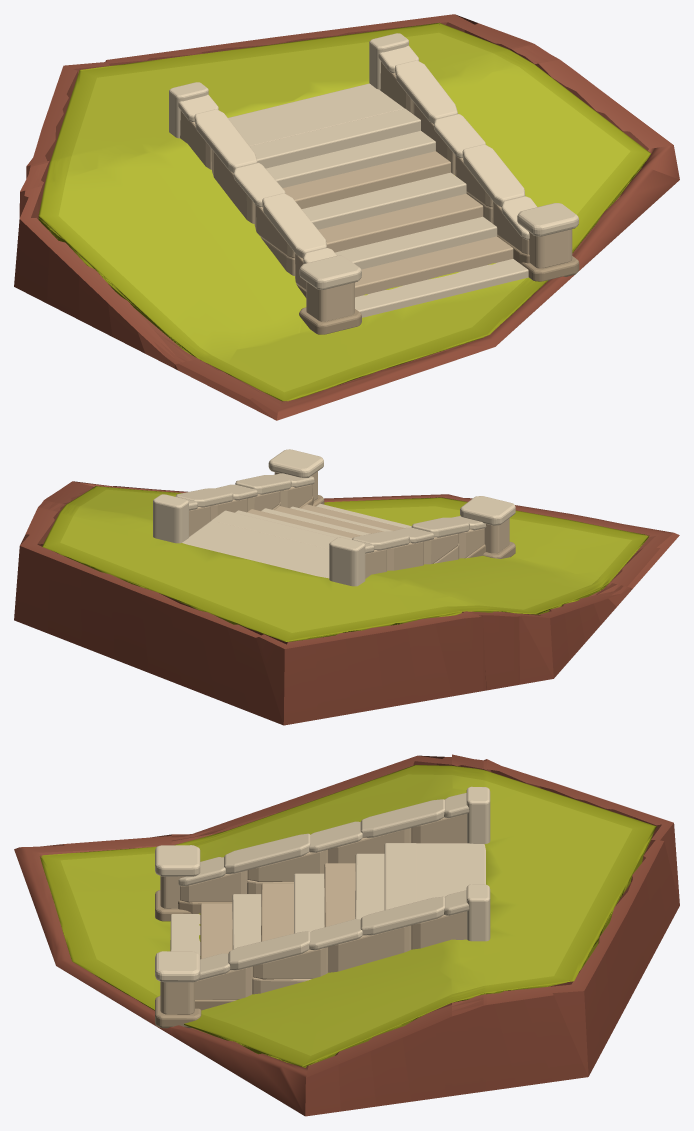
Rendered from STAIRS_WITH_REPAIRED_ATTACHMENT.glb.
3 renders of one model, top to bottom at view 1: azimuth 30°, elevation 25°; view 2: azimuth 150°, elevation 25°; view 3: azimuth 270°, elevation 25°, orthographic. The views are drawn at different scales.
Parts seen in each view (by area): view 1: ATTACH_R1_ADAPTED_KAYKIT_HILL, Landing_endstone, Tread_08, Tread_04, Tread_02, Tread_06, Tread_05, Tread_07, Tread_01, Tread_03, Crown_L_1, Crown_R_3 (+22 smaller); view 2: ATTACH_R1_ADAPTED_KAYKIT_HILL, Landing_endstone, Upper_termination_L, Upper_termination_R, Tread_08, Pillar_L_cap, Pillar_R_cap, WallTragstein_L_2, Crown_L_1, Crown_R_1, Crown_R_3, Crown_L_3 (+13 smaller); view 3: ATTACH_R1_ADAPTED_KAYKIT_HILL, Landing_endstone, WallTragstein_R_2, Tread_08, Crown_L_1, Tread_06, Crown_L_3, Crown_R_1, Crown_R_3, Tread_07, Tread_04, Tread_05 (+22 smaller).
Part boxes in pixels (left/top/right/bottom): ATTACH_R1_ADAPTED_KAYKIT_HILL: left=14, top=14, right=679, bottom=420; Landing_endstone: left=228, top=83, right=404, bottom=146; Tread_08: left=250, top=108, right=420, bottom=168; Tread_04: left=318, top=193, right=483, bottom=252; Tread_02: left=355, top=236, right=513, bottom=297; Tread_06: left=283, top=151, right=450, bottom=208; Tread_05: left=302, top=172, right=466, bottom=229; Tread_07: left=266, top=130, right=435, bottom=188; Tread_01: left=355, top=259, right=528, bottom=317; Tread_03: left=335, top=216, right=497, bottom=269; Crown_L_1: left=262, top=193, right=326, bottom=258; Crown_R_3: left=395, top=60, right=457, bottom=123; ATTACH_R1_ADAPTED_KAYKIT_HILL: left=14, top=481, right=679, bottom=725; Landing_endstone: left=182, top=520, right=329, bottom=578; Upper_termination_L: left=329, top=537, right=365, bottom=586; Upper_termination_R: left=153, top=494, right=188, bottom=543; Tread_08: left=211, top=510, right=336, bottom=548; Pillar_L_cap: left=460, top=496, right=515, bottom=525; Pillar_R_cap: left=268, top=449, right=323, bottom=477; WallTragstein_L_2: left=387, top=541, right=423, bottom=570; Crown_L_1: left=411, top=517, right=469, bottom=537; Crown_R_1: left=235, top=475, right=291, bottom=494; Crown_R_3: left=176, top=488, right=233, bottom=507; Crown_L_3: left=352, top=531, right=409, bottom=550; ATTACH_R1_ADAPTED_KAYKIT_HILL: left=14, top=754, right=679, bottom=1116; Landing_endstone: left=416, top=843, right=485, bottom=901; WallTragstein_R_2: left=328, top=925, right=411, bottom=972; Tread_08: left=384, top=843, right=416, bottom=909; Crown_L_1: left=224, top=833, right=310, bottom=873; Tread_06: left=324, top=863, right=355, bottom=926; Crown_L_3: left=360, top=799, right=445, bottom=837; Crown_R_1: left=228, top=931, right=310, bottom=970; Crown_R_3: left=360, top=896, right=445, bottom=935; Tread_07: left=355, top=853, right=384, bottom=919; Tread_04: left=261, top=883, right=293, bottom=941; Tread_05: left=294, top=873, right=324, bottom=933.
Bounding box in the file's own units: 40 × 7.92 × 38.
4 materials, 1 textured.
